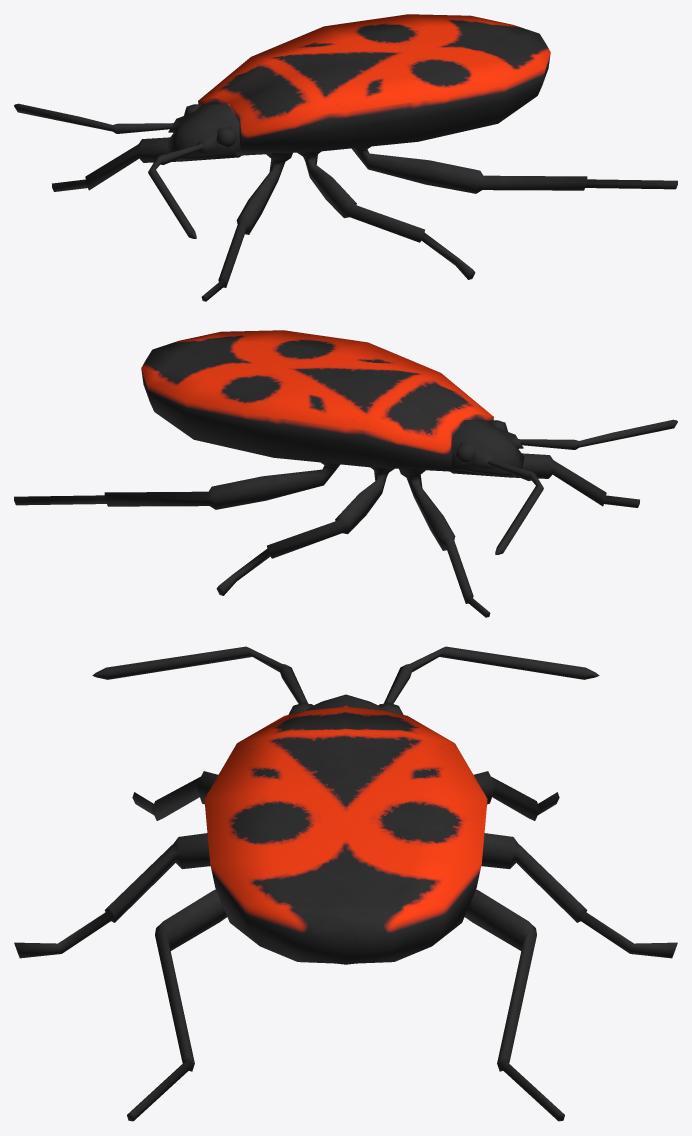
The model's file is gendarme.glb.
3 views of the same model, one above another, from view 1: azimuth 30°, elevation 25°; view 2: azimuth 150°, elevation 25°; view 3: azimuth 270°, elevation 25° (orthographic). The views are drawn at different scales.
Visible parts, largest first — view 1: Cube; view 2: Cube; view 3: Cube.
Boxes of the visible parts, x1,y1,x2,y2 form: Cube: (14,14,677,301); Cube: (14,330,677,617); Cube: (14,646,677,1121).
Size of the model in its own units: 0.018 by 0.00459 by 0.0149.
Materials: 1 (1 with a texture image).
